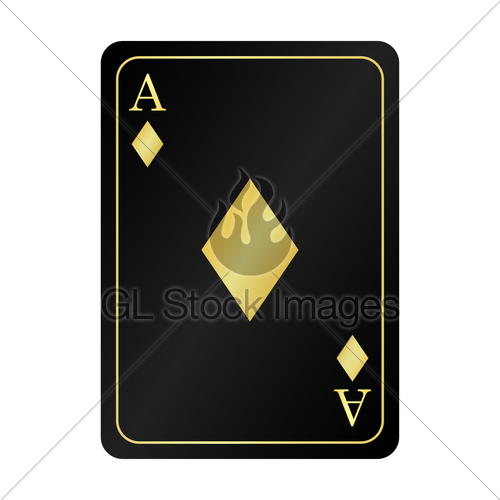ace of diamonds: (117, 56, 382, 442)
